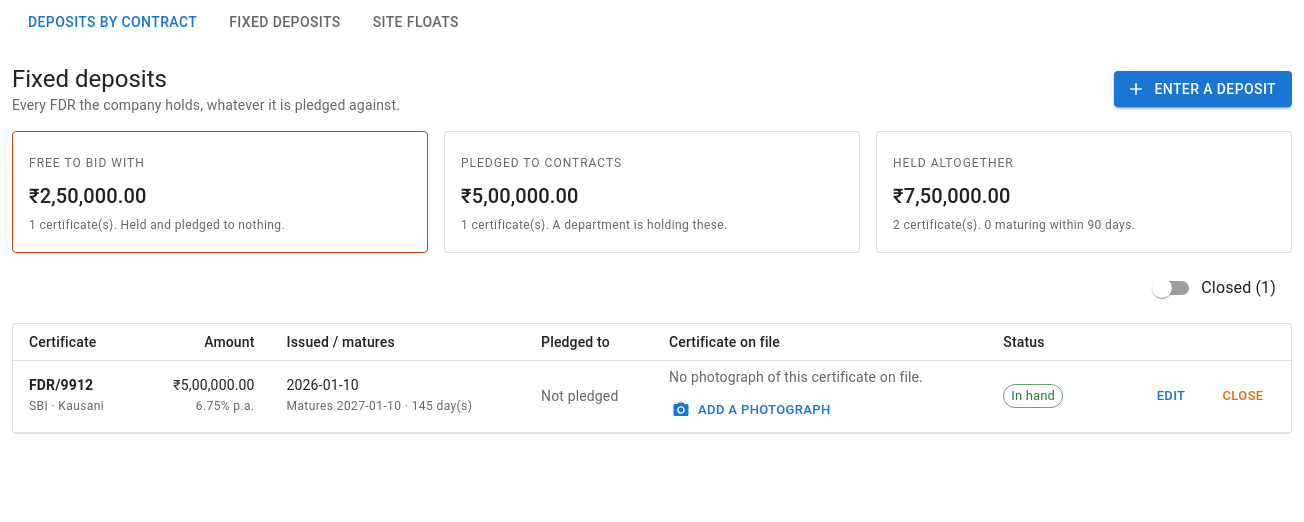
Test: FdrRegisterPage › keeps closed certificates off the register until they are asked for
expect the text "FDR/0001" is not shown: met
Click the checkbox labelled "Closed (1)" at (1214, 288), box [1152,278,1276,298]
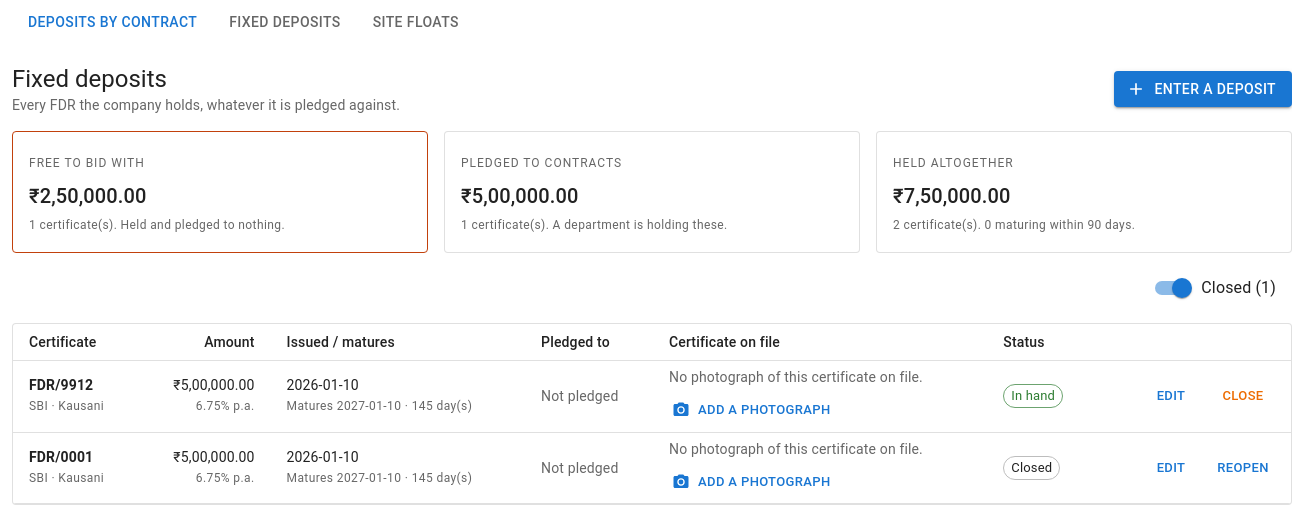
expect the text "FDR/0001" is shown: met, box [29,449,93,465]
